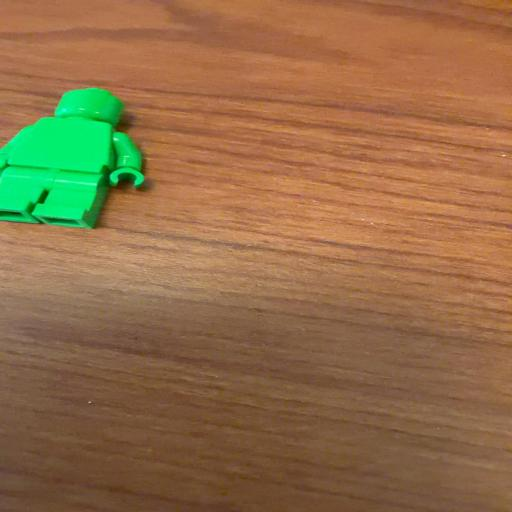UnoQ-minifig-detector: (0, 88, 144, 229)
